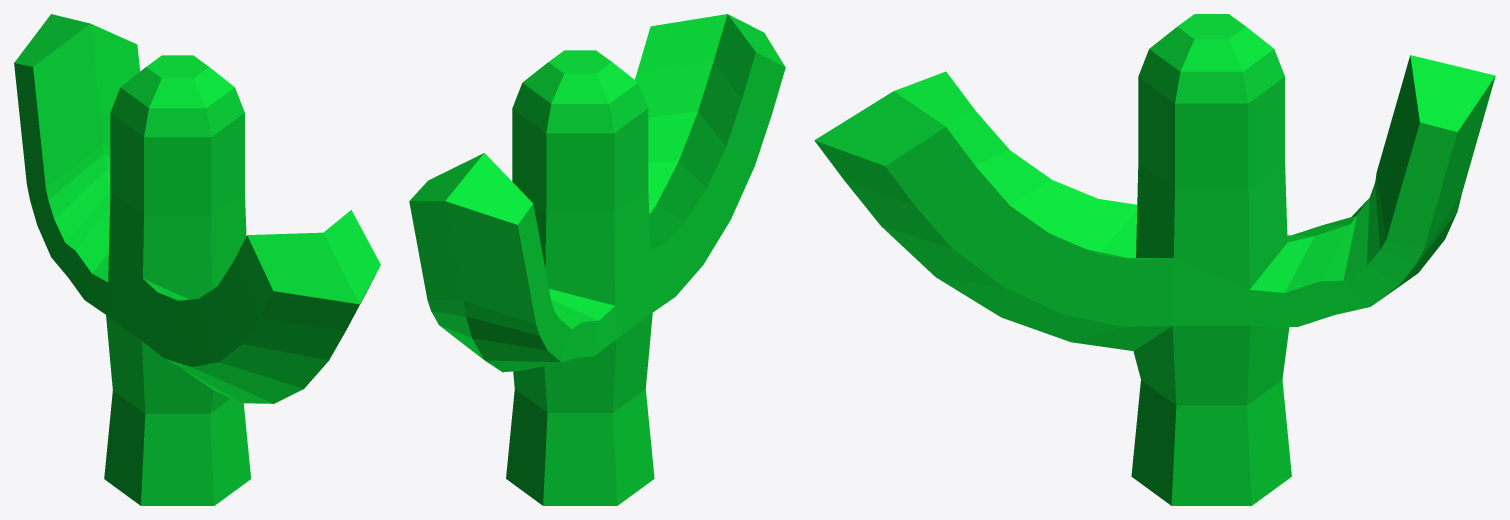
The model's file is Cactus.fbx.
3 views of the same model, side by side, from view 1: azimuth 30°, elevation 25°; view 2: azimuth 150°, elevation 25°; view 3: azimuth 270°, elevation 25° (orthographic). The views are drawn at different scales.
Parts seen in each view (by area): view 1: Cactus; view 2: Cactus; view 3: Cactus.
Boxes of the visible parts, left/top/right/bottom form: Cactus: left=14, top=14, right=380, bottom=505; Cactus: left=409, top=14, right=785, bottom=505; Cactus: left=814, top=14, right=1495, bottom=505.
Bounding box in the file's own units: 132 × 464 × 637.
